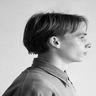ear: (46, 32, 65, 52)
